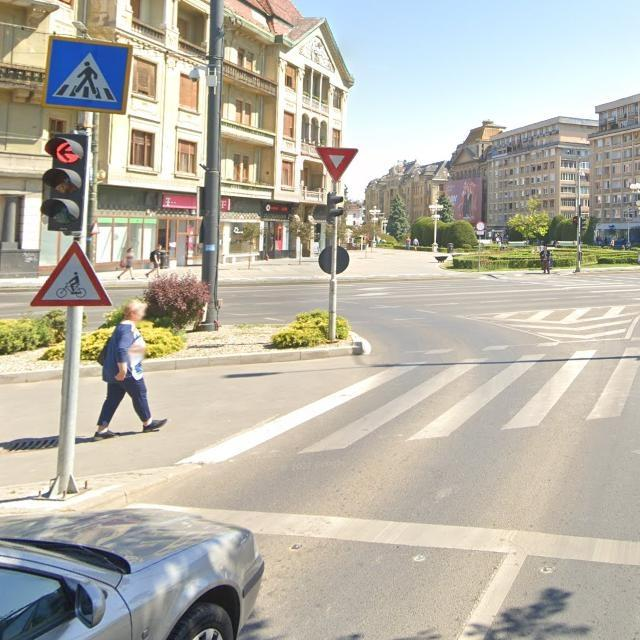info_crosswalk: (42, 36, 133, 115)
prio_give_way: (316, 146, 358, 182)
